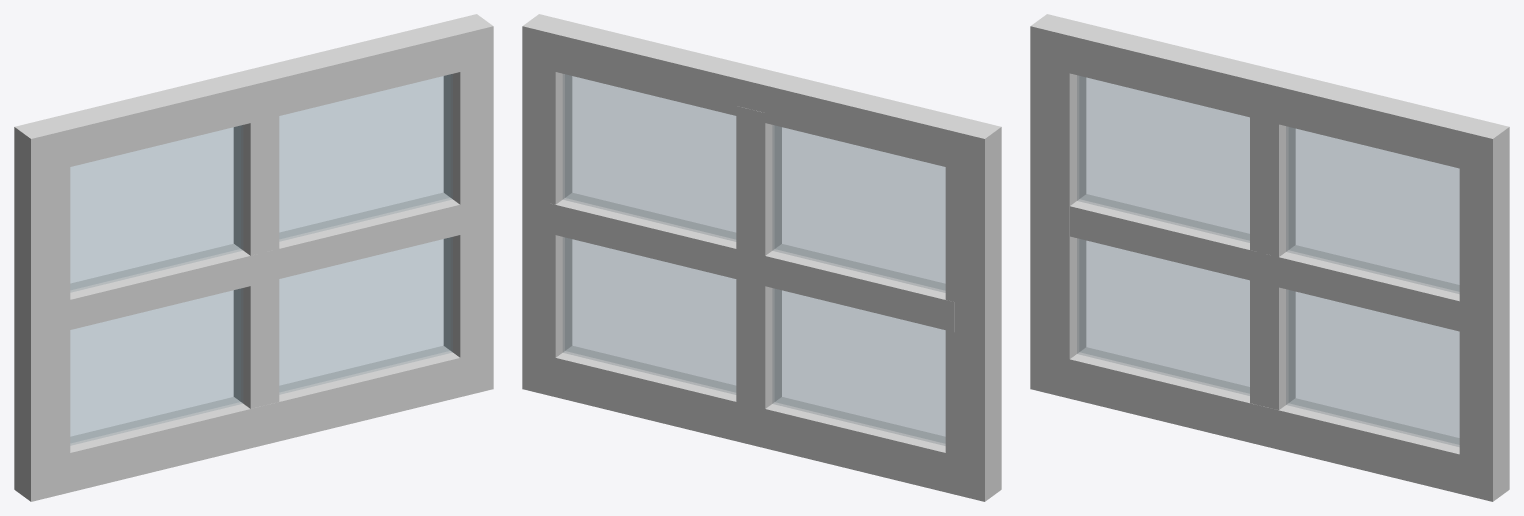
The model's file is Window Final.fbx.
3 renders of one model, left to right at view 1: azimuth 30°, elevation 25°; view 2: azimuth 150°, elevation 25°; view 3: azimuth 330°, elevation 25°, orthographic.
Parts seen in each view (by area): view 1: pCube6; view 2: pCube6; view 3: pCube6.
Boxes of the visible parts, box(x1,y1,x2,y2) form: pCube6: box(14, 14, 493, 501); pCube6: box(522, 14, 1001, 501); pCube6: box(1030, 14, 1509, 501).
Size of the model in its own units: 8 by 6 by 0.5037.
